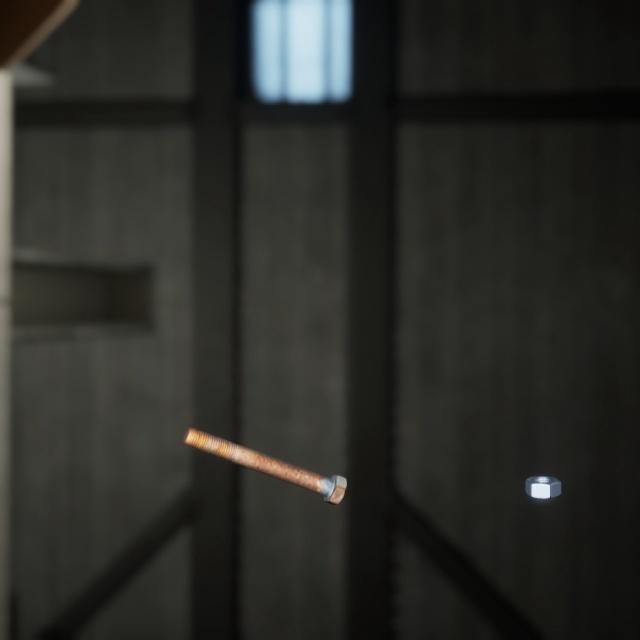bolt: (178, 401, 351, 488)
nut: (521, 450, 565, 482)
